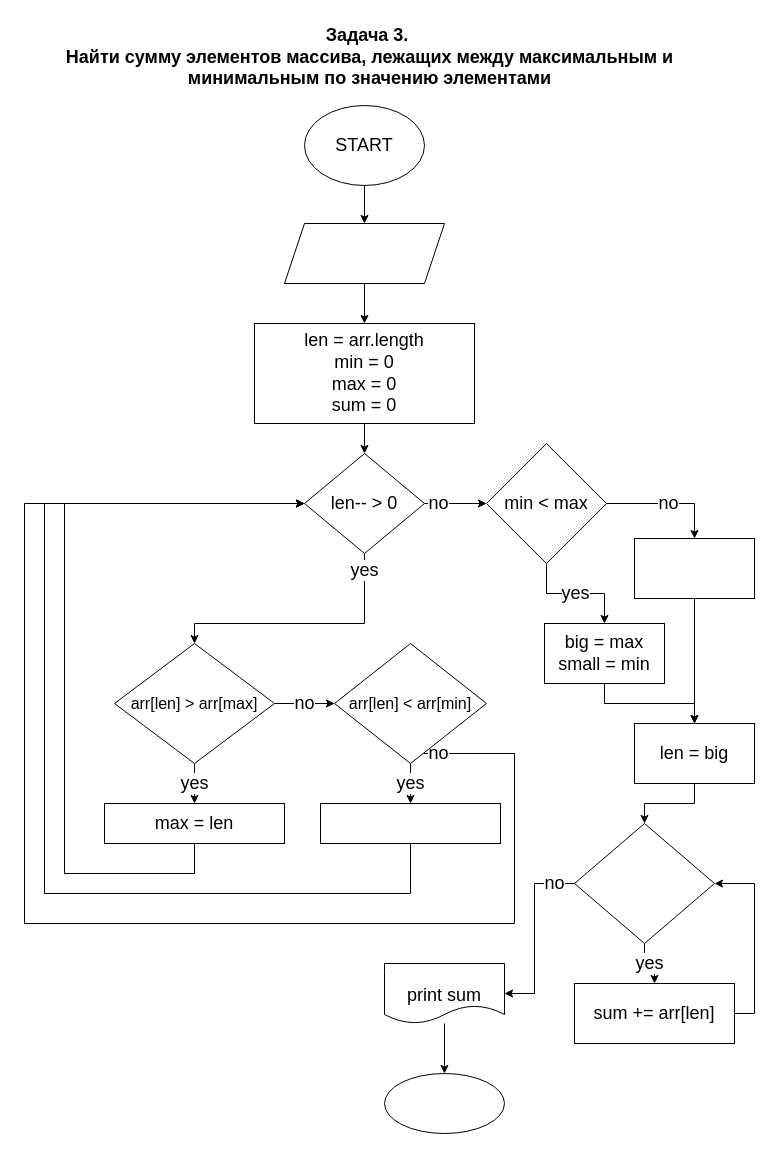
This 780x1151 diagram has some shape labels left out. Here are the shapes that lost their labels. From the top down, the box of each, then its label:
(284, 222, 444, 284): input arr[]
(634, 538, 754, 598): big = min small = max
(320, 802, 500, 844): min = len
(574, 822, 714, 944): --len > small
(384, 1072, 504, 1134): FINISH
